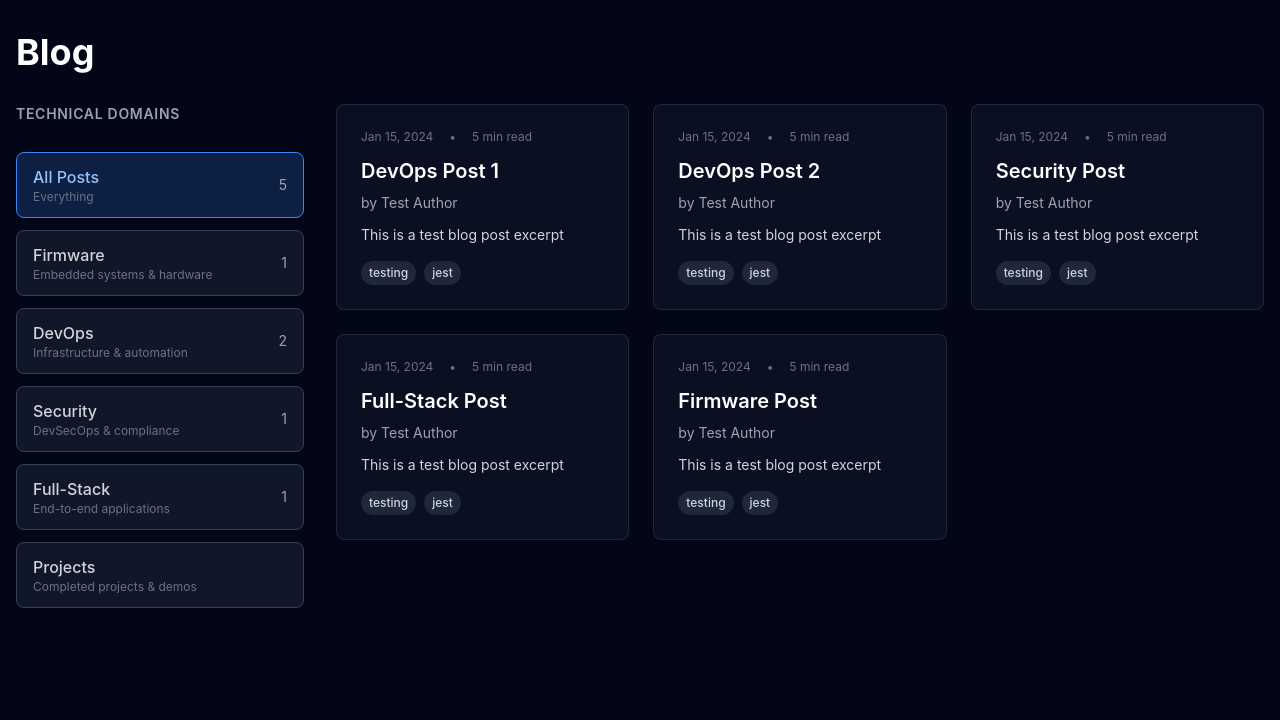
Test: BlogLayout Domain Filtering › shows all posts when All filter is selected
This screenshot has width=1280, height=720.
// Filter by domain first
Click the button "Security DevSecOps & compliance 1".
click(65, 411)  # box [16, 386, 304, 452]
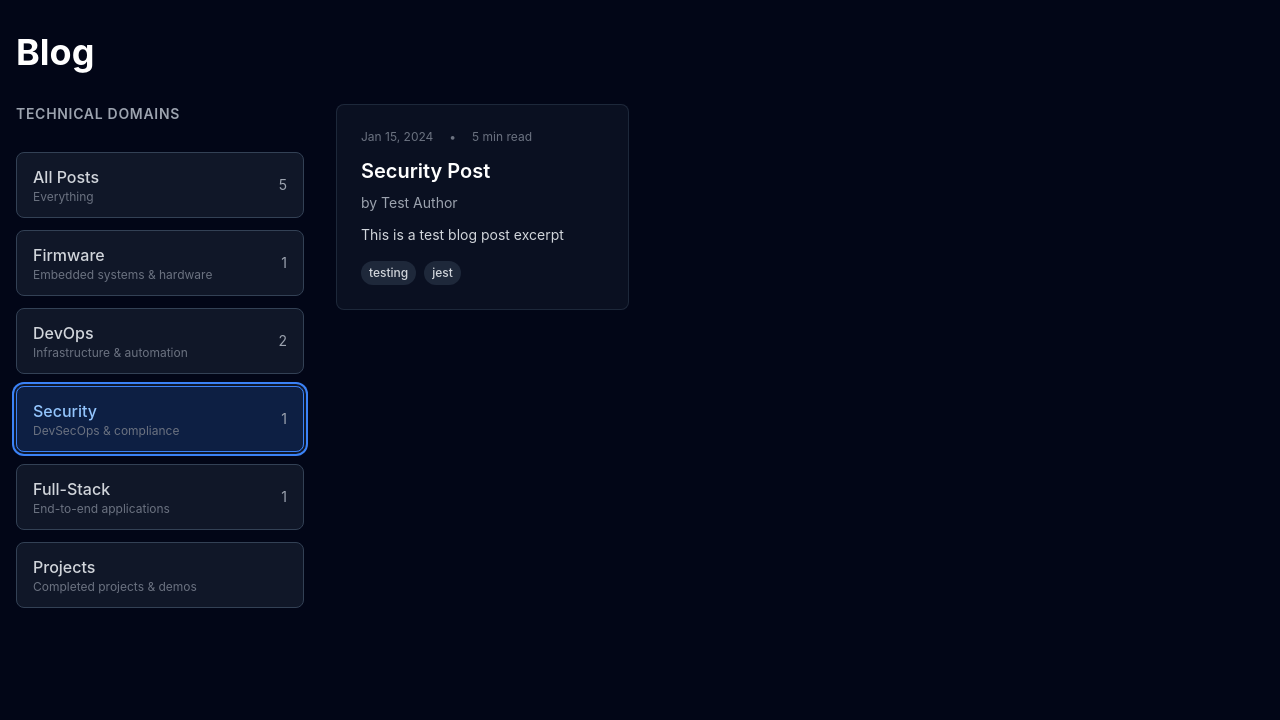
Expected: the heading "Security Post" is shown, [361, 159, 490, 183]
Result: the link "DevOps Post 1" is gone
// Click All to show everything
Click the button "All Posts Everything 5".
click(66, 177)  # box [16, 152, 304, 218]
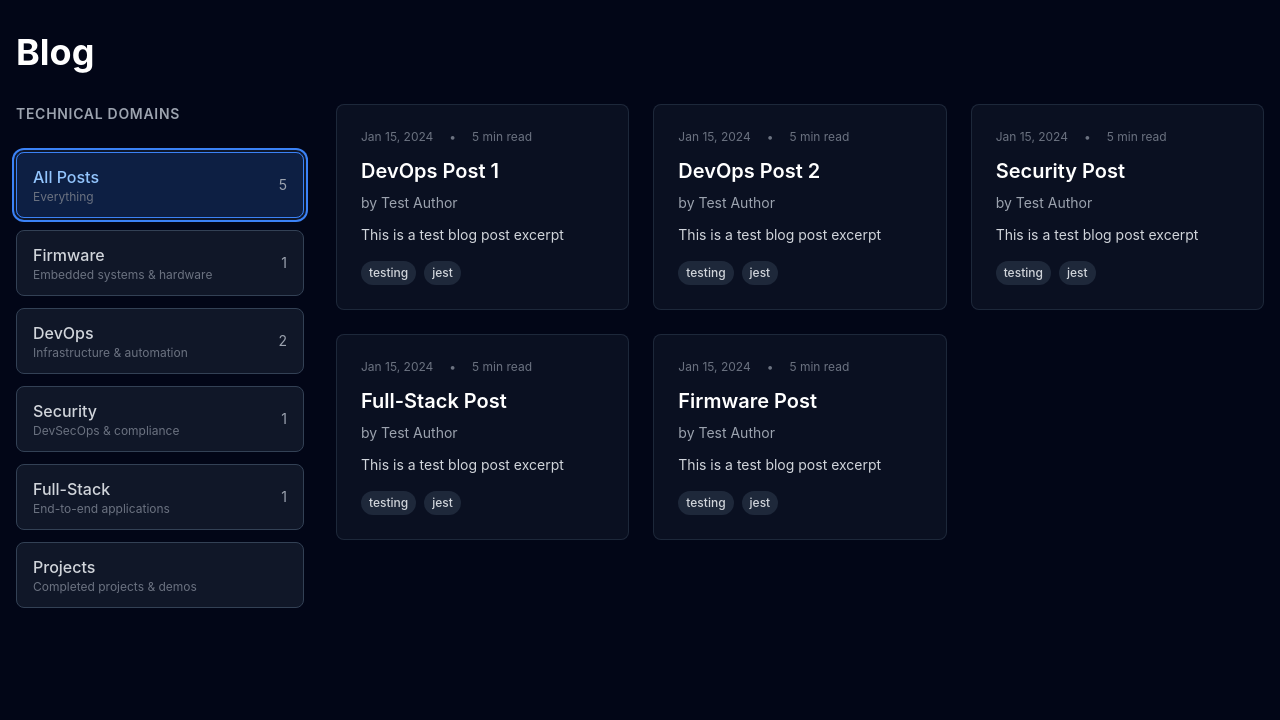
Expected: the heading "Security Post" is shown, [996, 159, 1125, 183]
Result: the heading "DevOps Post 1" is shown at [361, 159, 499, 183]
Result: the heading "Full-Stack Post" is shown at [361, 389, 507, 413]
